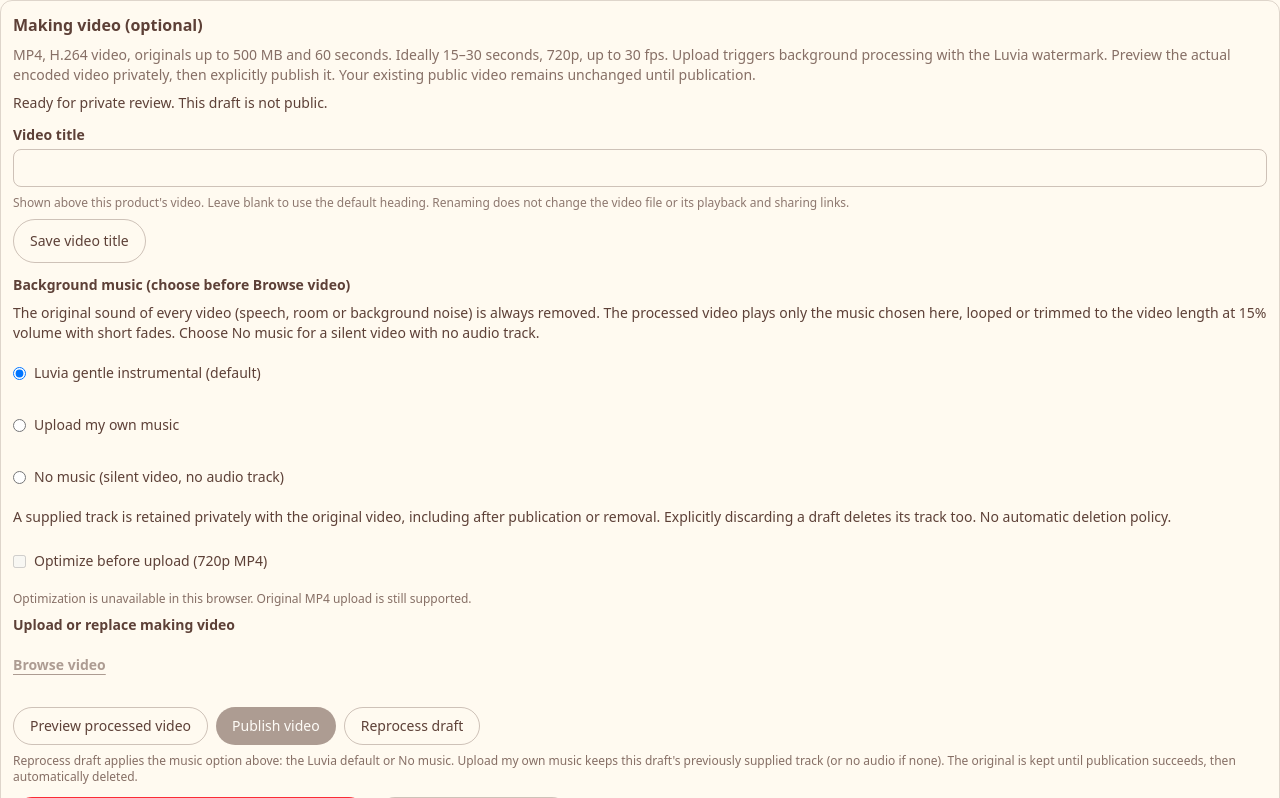
keeps reprocessing available until publication and explains post-publication original deletion
Expected: the button "Preview processed video" is shown, left=13, top=707, right=208, bottom=745
Expected: the text "original is kept until publication succeeds" is shown, left=13, top=752, right=1236, bottom=785
Click the button "Reprocess draft" at (412, 726), box left=344, top=707, right=480, bottom=745
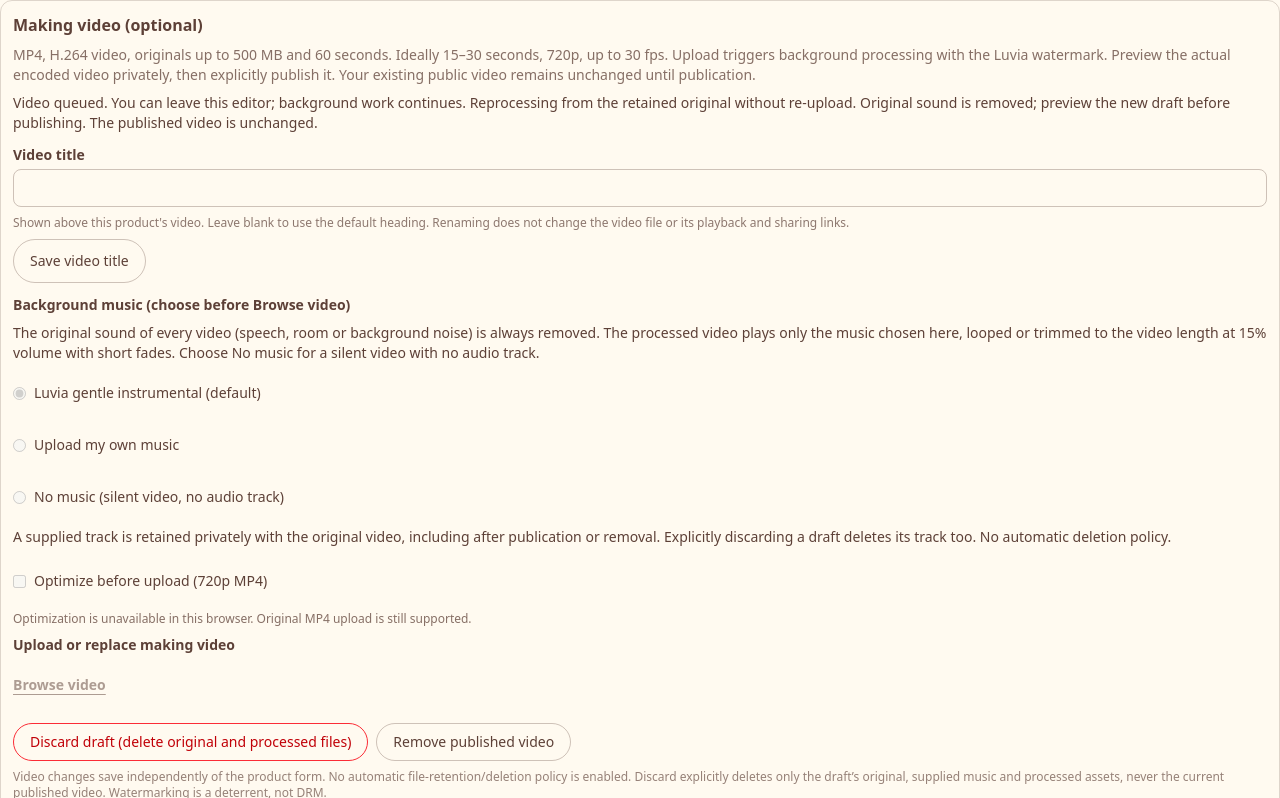
Now the button "Publish video" is gone
